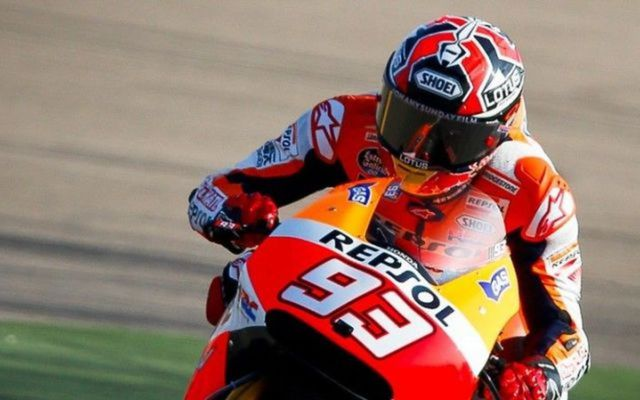helmet: (377, 33, 533, 190)
